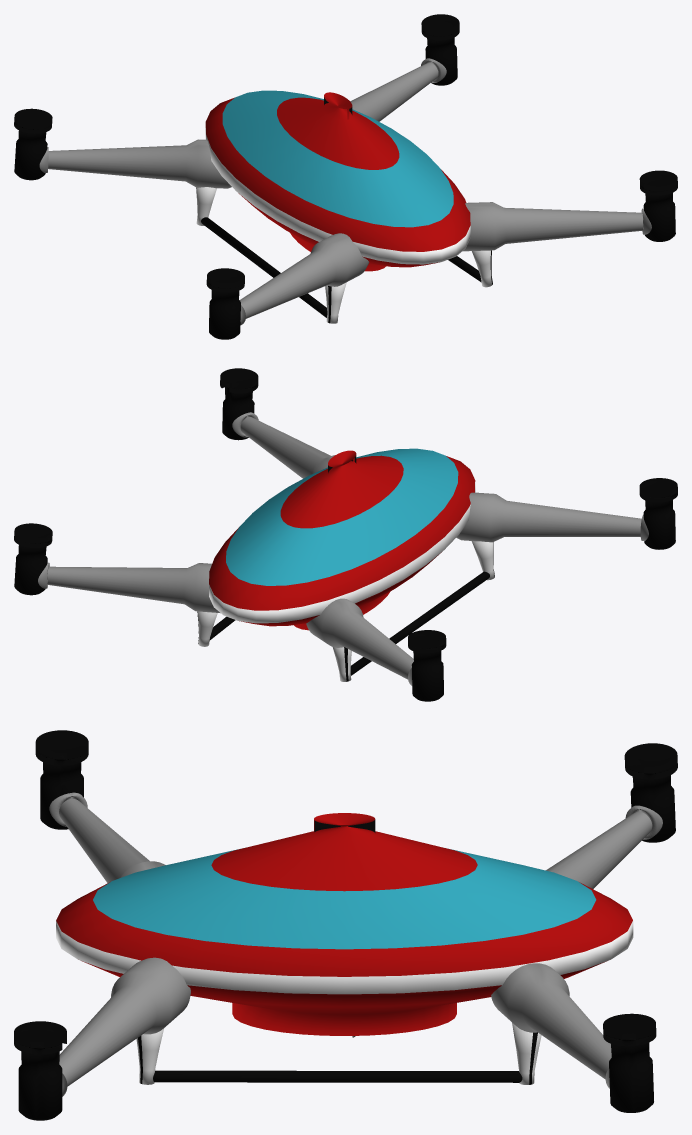
The model's file is drone.fbx.
The picture shows the model from 3 angles, top to bottom: view 1: azimuth 30°, elevation 25°; view 2: azimuth 150°, elevation 25°; view 3: azimuth 270°, elevation 25°; orthographic projection. The views are drawn at different scales.
Parts seen in each view (by area): view 1: Cylinder.001, Cylinder.003, Cylinder.007, Cylinder.005, Cylinder.002, Cylinder.004; view 2: Cylinder.001, Cylinder.003, Cylinder.007, Cylinder.005, Cylinder; view 3: Cylinder.001, Cylinder.003, Cylinder.006, Cylinder, Cylinder.004.
Boxes of the visible parts, x1,y1,x2,y2 form: Cylinder.001: (205, 90, 470, 271); Cylinder.003: (14, 14, 677, 339); Cylinder.007: (201, 217, 327, 317); Cylinder.005: (325, 282, 346, 323); Cylinder.002: (196, 187, 216, 225); Cylinder.004: (472, 250, 492, 287); Cylinder.001: (209, 448, 475, 630); Cylinder.003: (14, 368, 677, 701); Cylinder.007: (350, 571, 489, 675); Cylinder.005: (471, 541, 494, 580); Cylinder: (197, 611, 217, 646); Cylinder.001: (56, 813, 633, 1035); Cylinder.003: (14, 730, 677, 1120); Cylinder.006: (153, 1070, 522, 1082); Cylinder: (512, 1022, 541, 1084); Cylinder.004: (136, 1028, 164, 1084).
Bounding box in the file's own units: 1355 × 442 × 1220.
